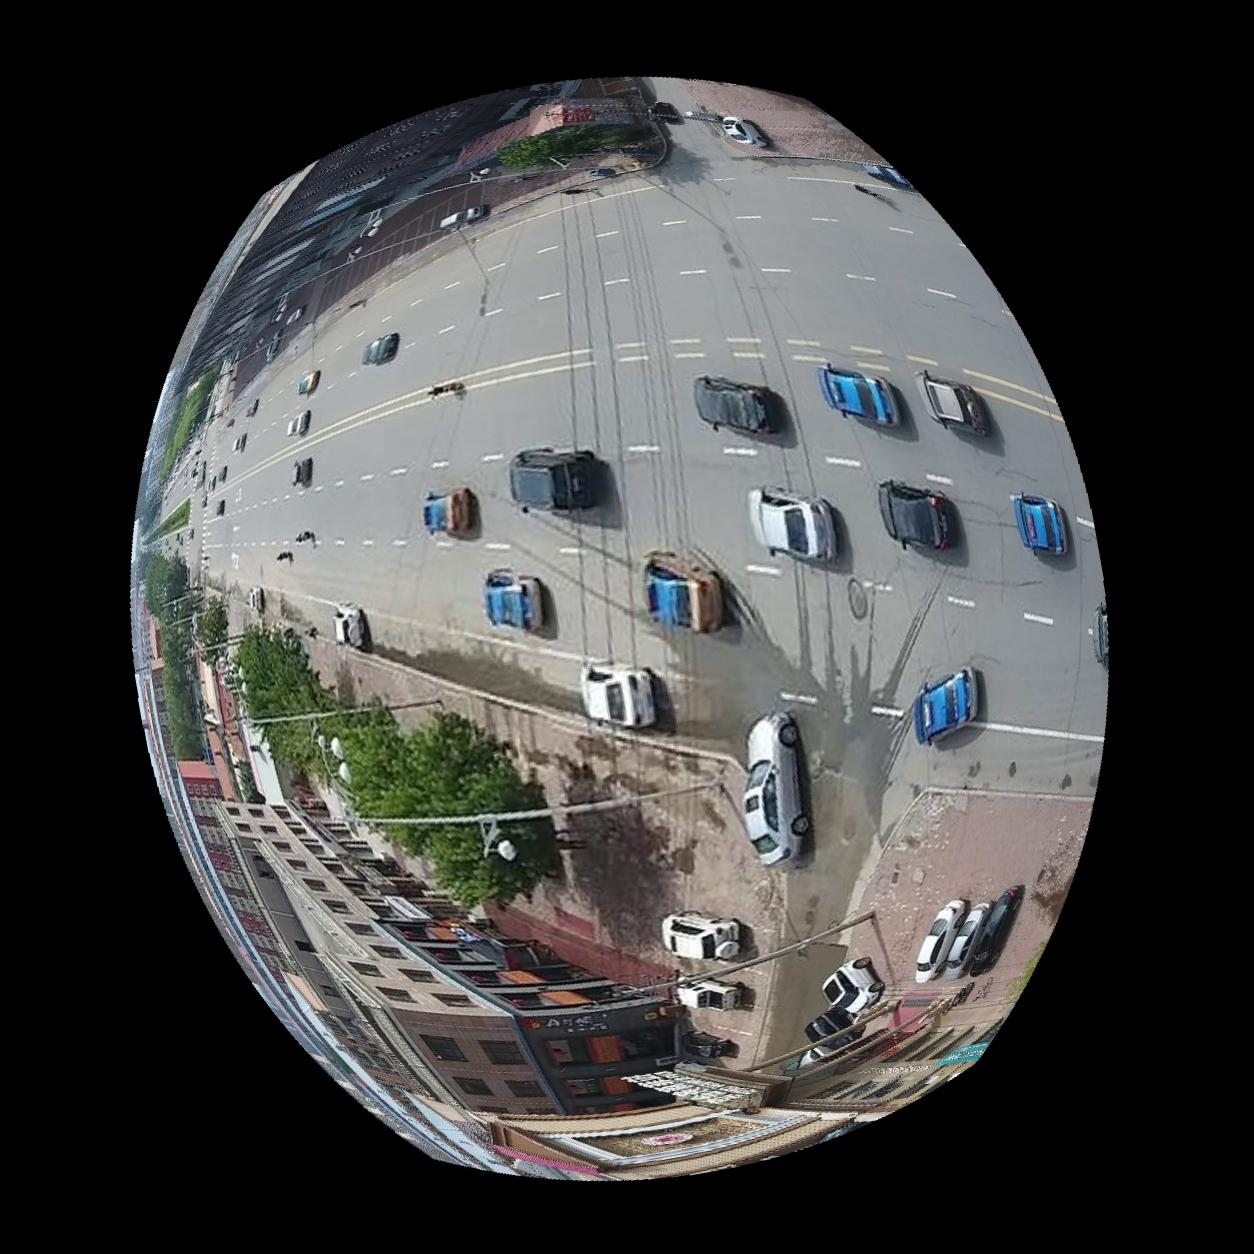building: (172, 80, 567, 394)
cars: (743, 711, 812, 867), (749, 486, 841, 568), (695, 374, 794, 447), (643, 550, 728, 633), (506, 446, 599, 516), (816, 357, 905, 428), (878, 479, 957, 551), (913, 665, 981, 745), (970, 885, 1025, 978), (580, 661, 658, 727), (918, 367, 991, 436), (918, 899, 969, 984), (663, 912, 742, 966), (482, 567, 544, 633), (944, 903, 994, 982), (1012, 491, 1070, 556), (823, 958, 885, 1015), (421, 486, 480, 545), (676, 978, 749, 1014), (714, 111, 773, 149), (333, 601, 366, 647), (362, 331, 398, 365), (286, 408, 310, 438), (292, 456, 312, 488), (295, 367, 319, 393)
trees: (263, 711, 544, 816), (385, 819, 575, 908), (235, 629, 346, 715), (497, 123, 653, 168), (160, 620, 204, 760), (144, 555, 189, 619)
